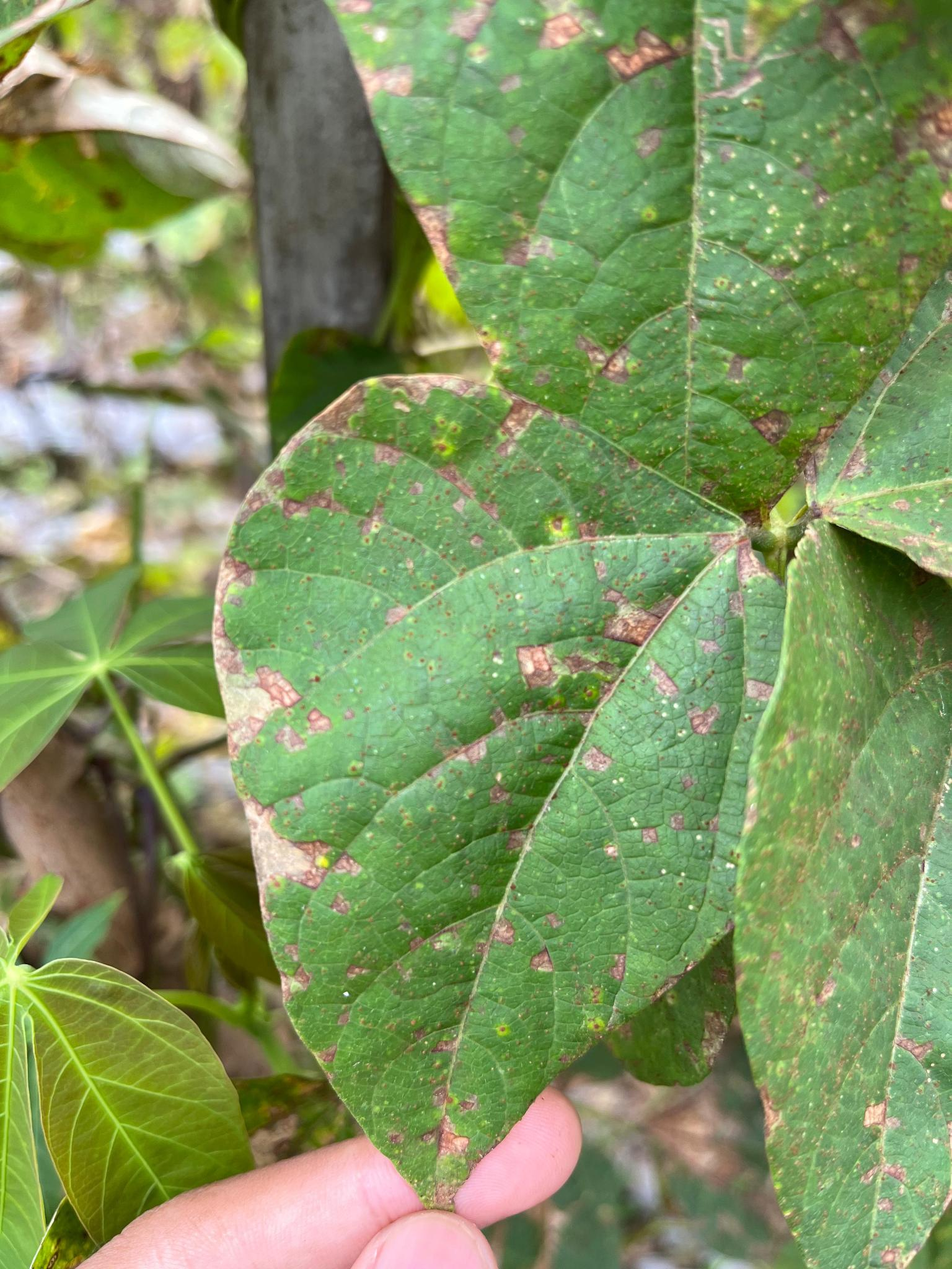hawar: (199, 369, 722, 1147)
